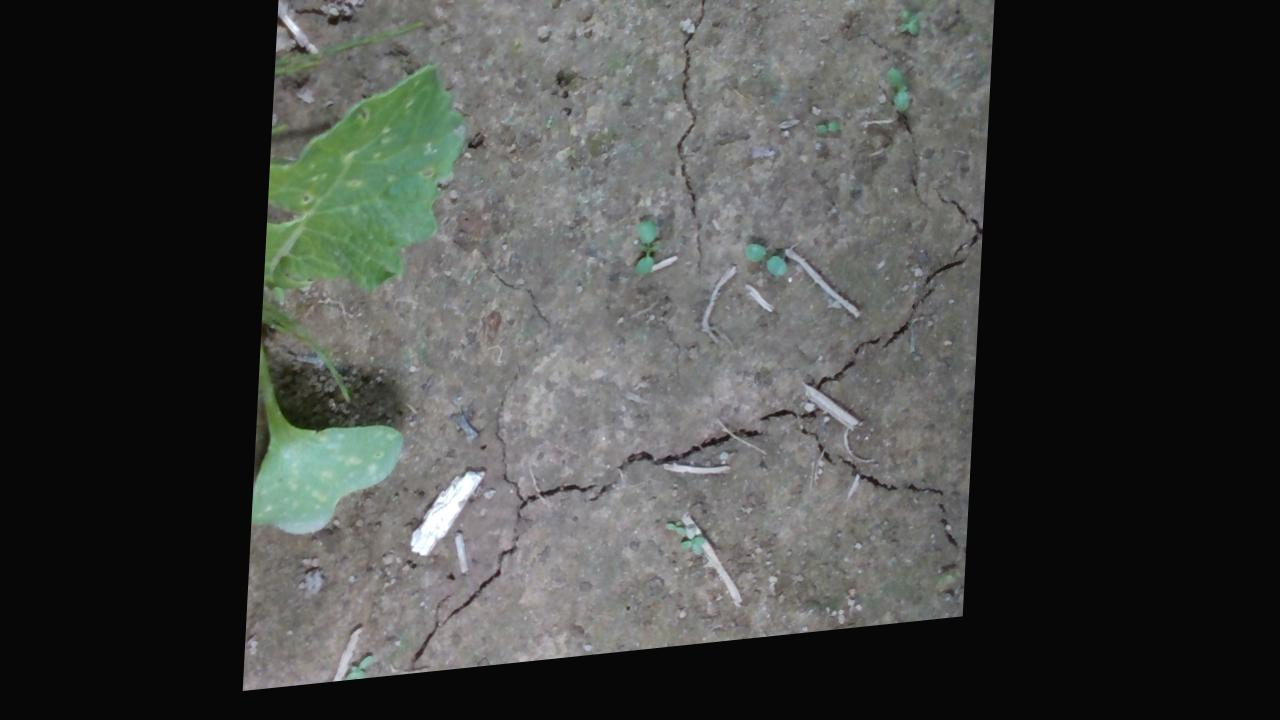weed: (743, 256, 793, 301)
